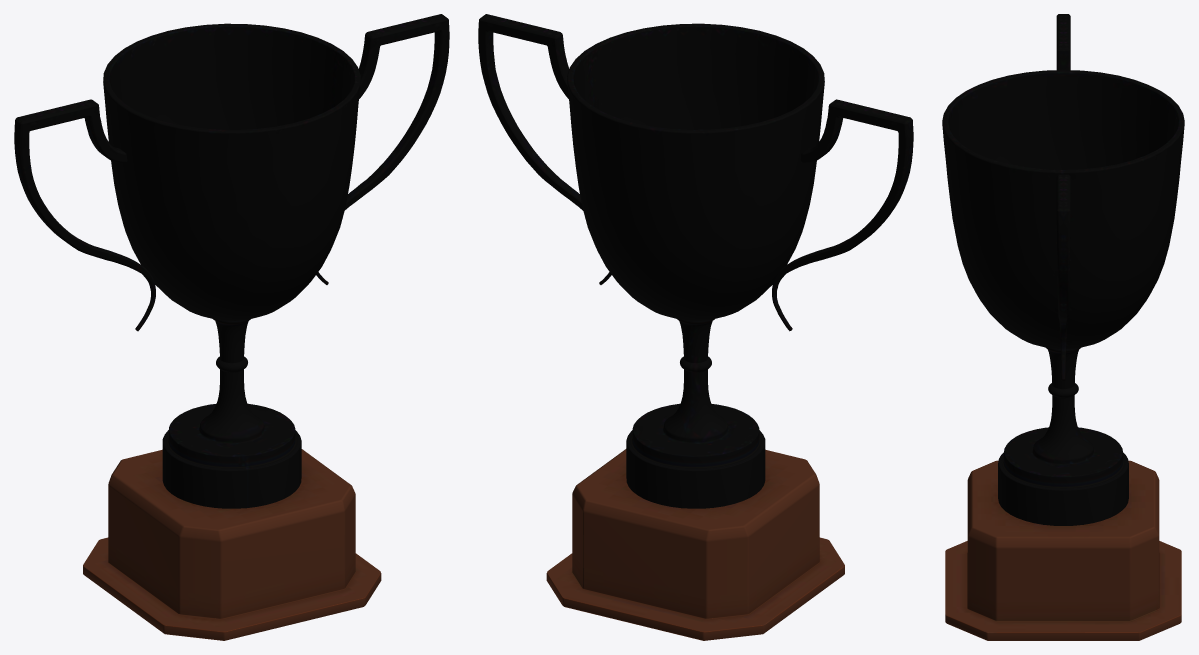
File: gold_trophy.glb
3 renders of one model, left to right at view 1: azimuth 30°, elevation 25°; view 2: azimuth 150°, elevation 25°; view 3: azimuth 270°, elevation 25°, orthographic. The views are drawn at different scales.
Visible parts, largest first — view 1: trophy.1; view 2: trophy.1; view 3: trophy.1.
Boxes of the visible parts, x1,y1,x2,y2 form: trophy.1: (14,14,449,640); trophy.1: (478,14,913,640); trophy.1: (942,14,1184,640).
Bounding box in the file's own units: 0.0417 × 0.0474 × 0.0217.
Materials: 1 (1 with a texture image).
